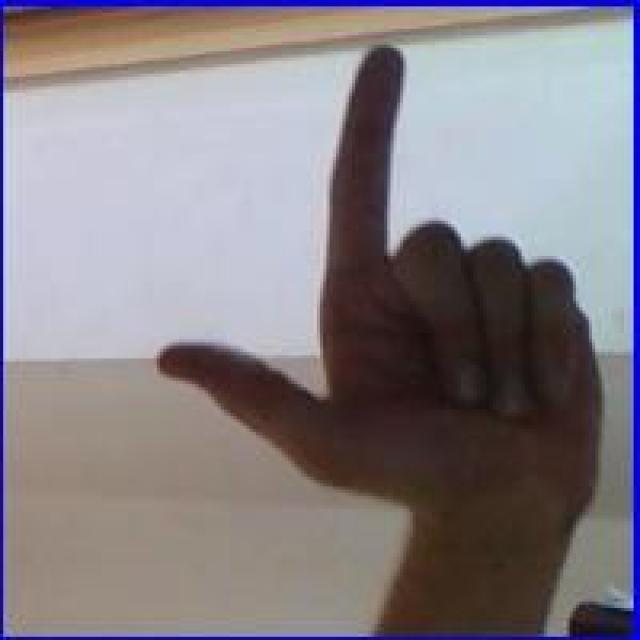L: (153, 39, 604, 538)
